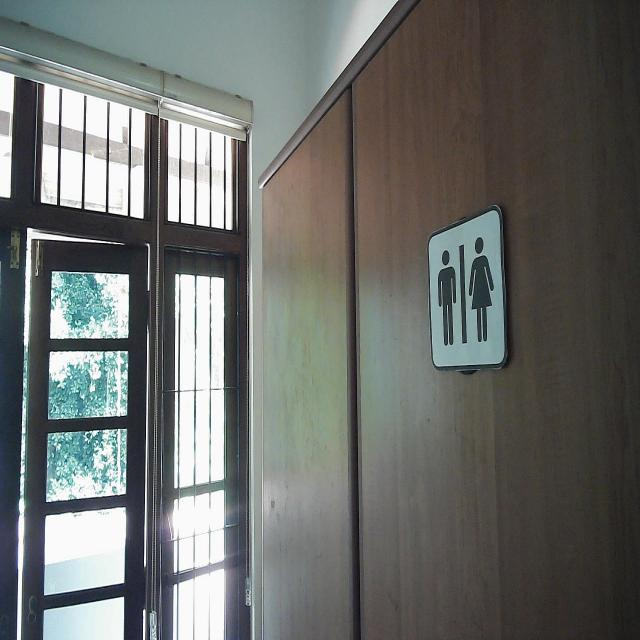restroom: (426, 199, 510, 376)
